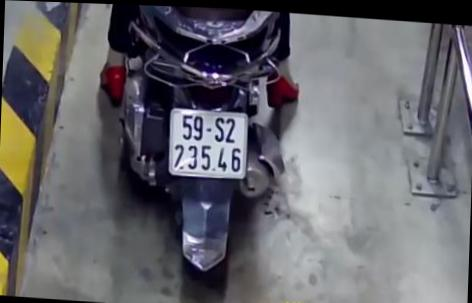LP: (167, 104, 250, 180)
